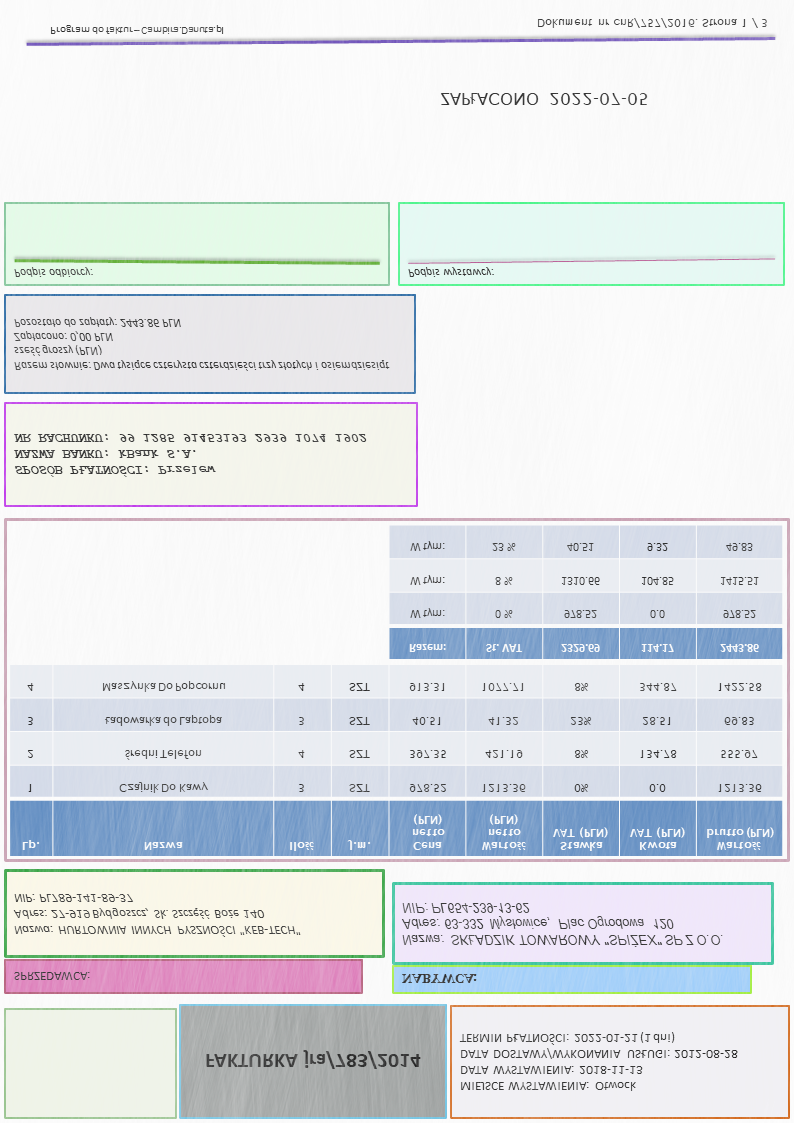Table: (8, 664, 783, 859), (388, 525, 782, 662)
TextBox: (11, 314, 392, 375), (457, 1029, 742, 1096), (13, 428, 368, 481), (398, 896, 724, 951), (11, 887, 302, 940), (201, 1049, 424, 1073), (437, 89, 648, 111), (535, 15, 770, 32), (47, 23, 227, 40), (404, 263, 495, 282), (9, 967, 91, 986), (12, 264, 94, 283), (398, 970, 479, 988)
